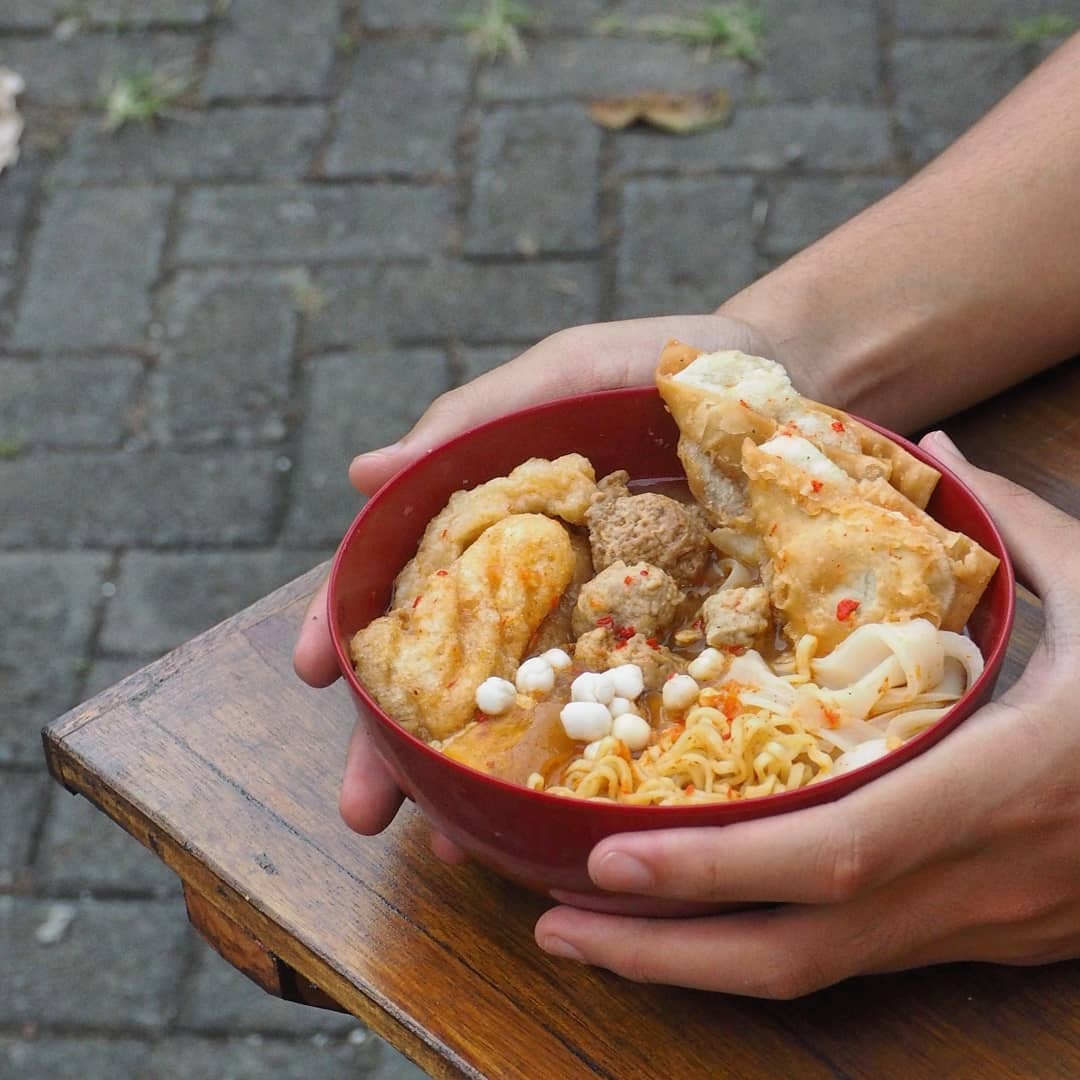seblak: (351, 342, 1002, 805)
